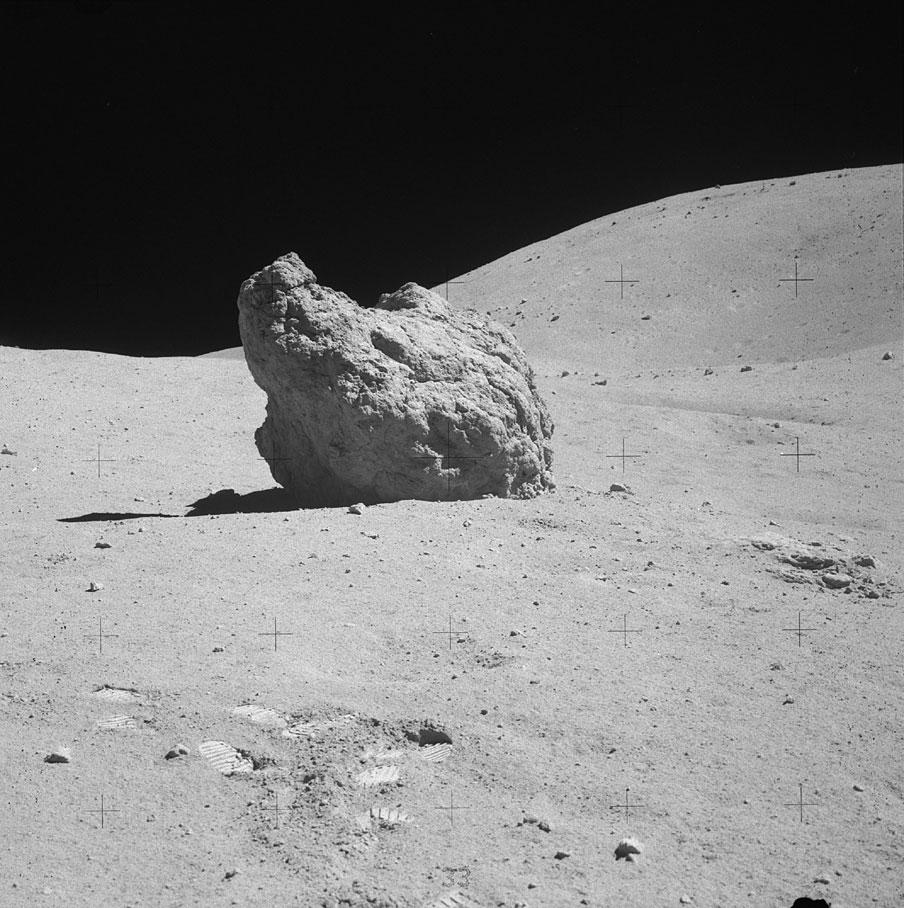rock: (239, 254, 553, 505)
